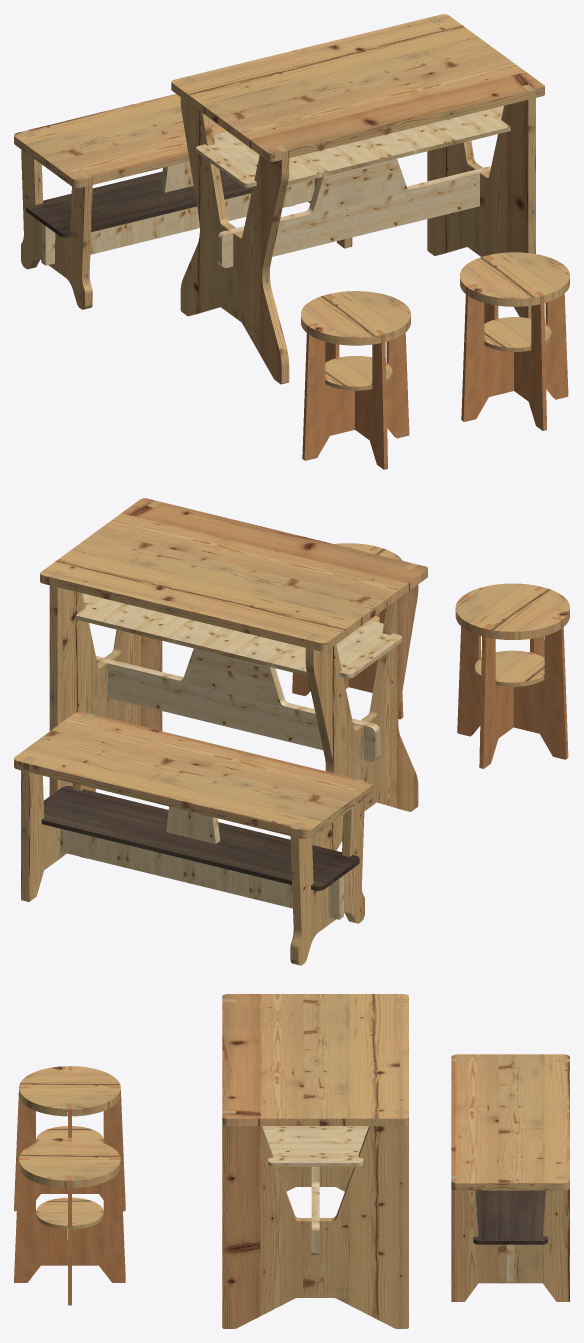
The model's file is table-set-0420-ver4-rev0428.glb.
3 renders of one model, top to bottom at view 1: azimuth 30°, elevation 25°; view 2: azimuth 150°, elevation 25°; view 3: azimuth 270°, elevation 25°, orthographic. The views are drawn at different scales.
Visible parts, largest first — view 1: Tabletop_0, Legs_3, Support_0, Legs_5, legs_2, shelf_2, Legs_4, Legs_1, No Name_0, legs_1, No Name_1, Seat plate_0 (+5 smaller); view 2: Tabletop_0, legs_2, Legs_3, Support_0, No Name_0, Legs_5, shelf_2, No Name_1, Legs_4, legs_1, Seat plate_1, legs_0 (+3 smaller); view 3: Legs_5, Tabletop_0, legs_2, legs_0, Legs_0, Seat plate_1, Seat plate_0, shelf_2, No Name_0, Legs_2, shelf_1, Legs_3 (+3 smaller).
Boxes of the visible parts, bbox=[...] form: Tabletop_0: bbox=[171, 14, 544, 161]; Legs_3: bbox=[180, 76, 289, 384]; Support_0: bbox=[217, 159, 491, 267]; Legs_5: bbox=[427, 16, 535, 318]; legs_2: bbox=[14, 94, 227, 187]; shelf_2: bbox=[196, 106, 510, 187]; Legs_4: bbox=[302, 302, 409, 460]; Legs_1: bbox=[461, 263, 568, 421]; No Name_0: bbox=[26, 170, 252, 237]; legs_1: bbox=[21, 130, 92, 309]; No Name_1: bbox=[41, 161, 314, 265]; Seat plate_0: bbox=[460, 252, 569, 306]; Tabletop_0: bbox=[40, 498, 427, 651]; legs_2: bbox=[14, 712, 372, 839]; Legs_3: bbox=[305, 563, 418, 850]; Support_0: bbox=[96, 648, 379, 761]; No Name_0: bbox=[41, 786, 359, 890]; Legs_5: bbox=[49, 500, 162, 795]; shelf_2: bbox=[75, 593, 402, 678]; No Name_1: bbox=[60, 806, 343, 919]; Legs_4: bbox=[457, 595, 568, 759]; legs_1: bbox=[290, 779, 364, 965]; Seat plate_1: bbox=[455, 583, 569, 639]; legs_0: bbox=[21, 713, 95, 901]; Legs_5: bbox=[222, 1110, 408, 1328]; Tabletop_0: bbox=[222, 994, 408, 1125]; legs_2: bbox=[451, 1054, 569, 1190]; legs_0: bbox=[451, 1175, 569, 1301]; Legs_0: bbox=[14, 1158, 125, 1282]; Seat plate_1: bbox=[19, 1066, 120, 1116]; Seat plate_0: bbox=[19, 1137, 120, 1187]; shelf_2: bbox=[262, 1126, 368, 1166]; No Name_0: bbox=[473, 1190, 547, 1244]; Legs_2: bbox=[14, 1086, 125, 1211]; shelf_1: bbox=[36, 1197, 103, 1229]; Legs_3: bbox=[222, 999, 408, 1191].
Size of the model in its own units: 1.09 by 0.7 by 1.64.
7 materials, 7 textured.
